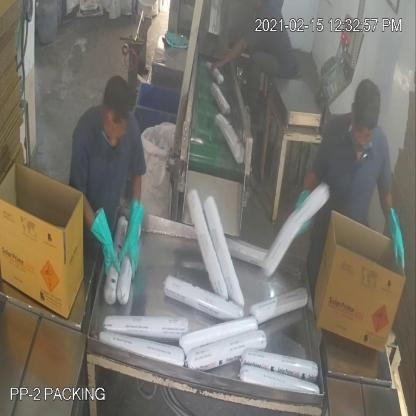glove: (86, 198, 121, 284), (117, 192, 147, 282), (384, 200, 408, 274)
no_glove: (209, 31, 252, 70)
